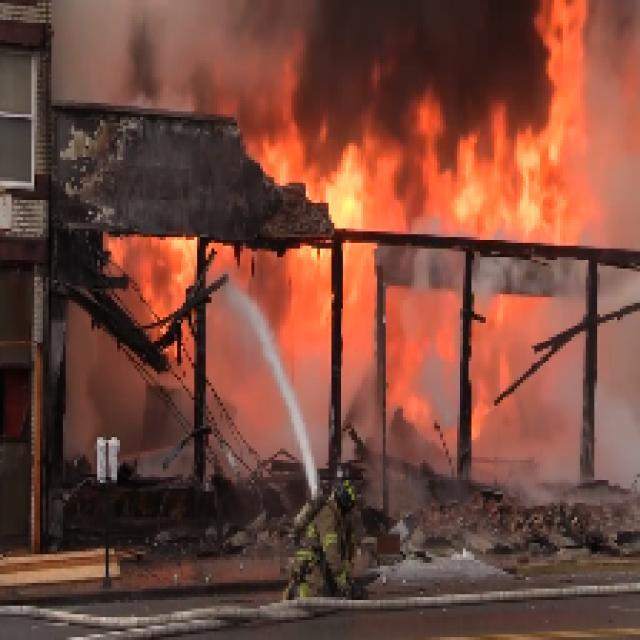Fire: (321, 142, 575, 234)
Smoke: (337, 5, 536, 114)
